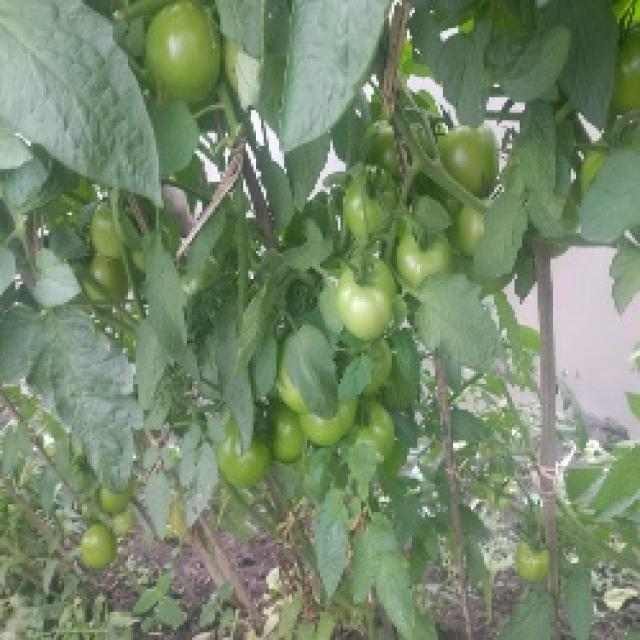tomato: (150, 1, 219, 116), (336, 256, 411, 352), (436, 121, 499, 199), (337, 162, 400, 236), (73, 519, 133, 579), (395, 229, 455, 288), (215, 432, 263, 490), (358, 393, 409, 442), (303, 415, 369, 449), (83, 203, 123, 254), (90, 253, 128, 301), (274, 422, 312, 466), (617, 38, 640, 109), (511, 541, 552, 580), (93, 483, 133, 521), (458, 200, 480, 258), (276, 381, 306, 416)
